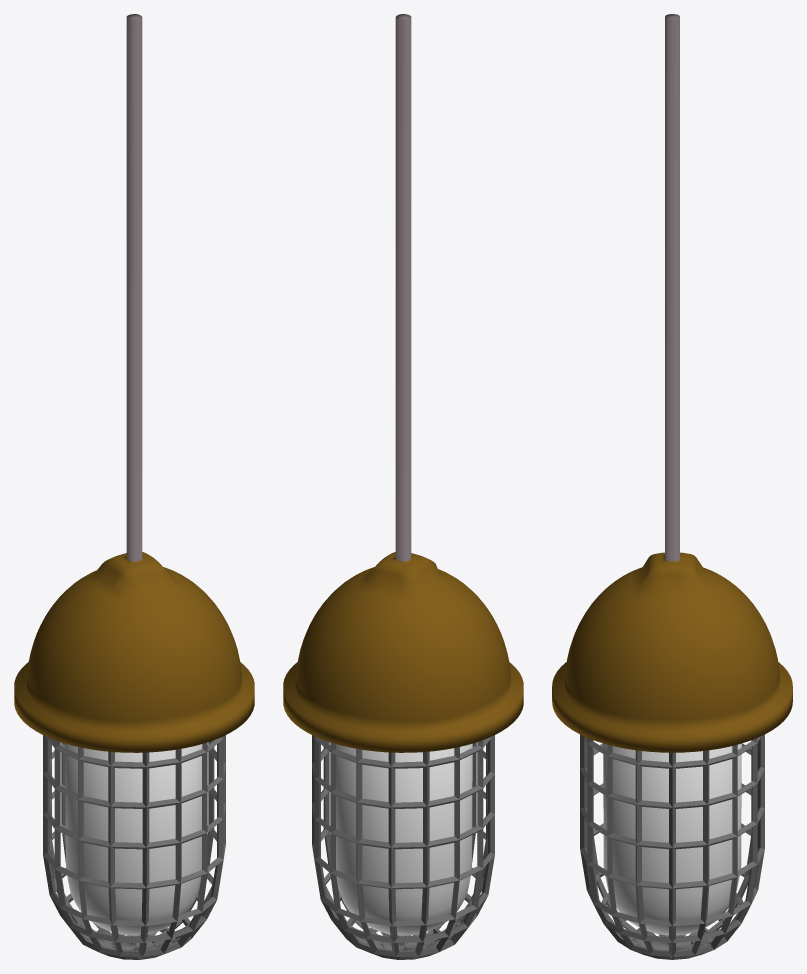
The model's file is chandelier.fbx.
3 views of the same model, side by side, from view 1: azimuth 30°, elevation 25°; view 2: azimuth 150°, elevation 25°; view 3: azimuth 270°, elevation 25° (orthographic).
Parts seen in each view (by area): view 1: Cube; view 2: Cube; view 3: Cube.
Part boxes in pixels (bbox=[...]): Cube: bbox=[14, 14, 254, 959]; Cube: bbox=[283, 14, 523, 959]; Cube: bbox=[552, 14, 792, 959].
Bounding box in the file's own units: 259 × 1113 × 259.
